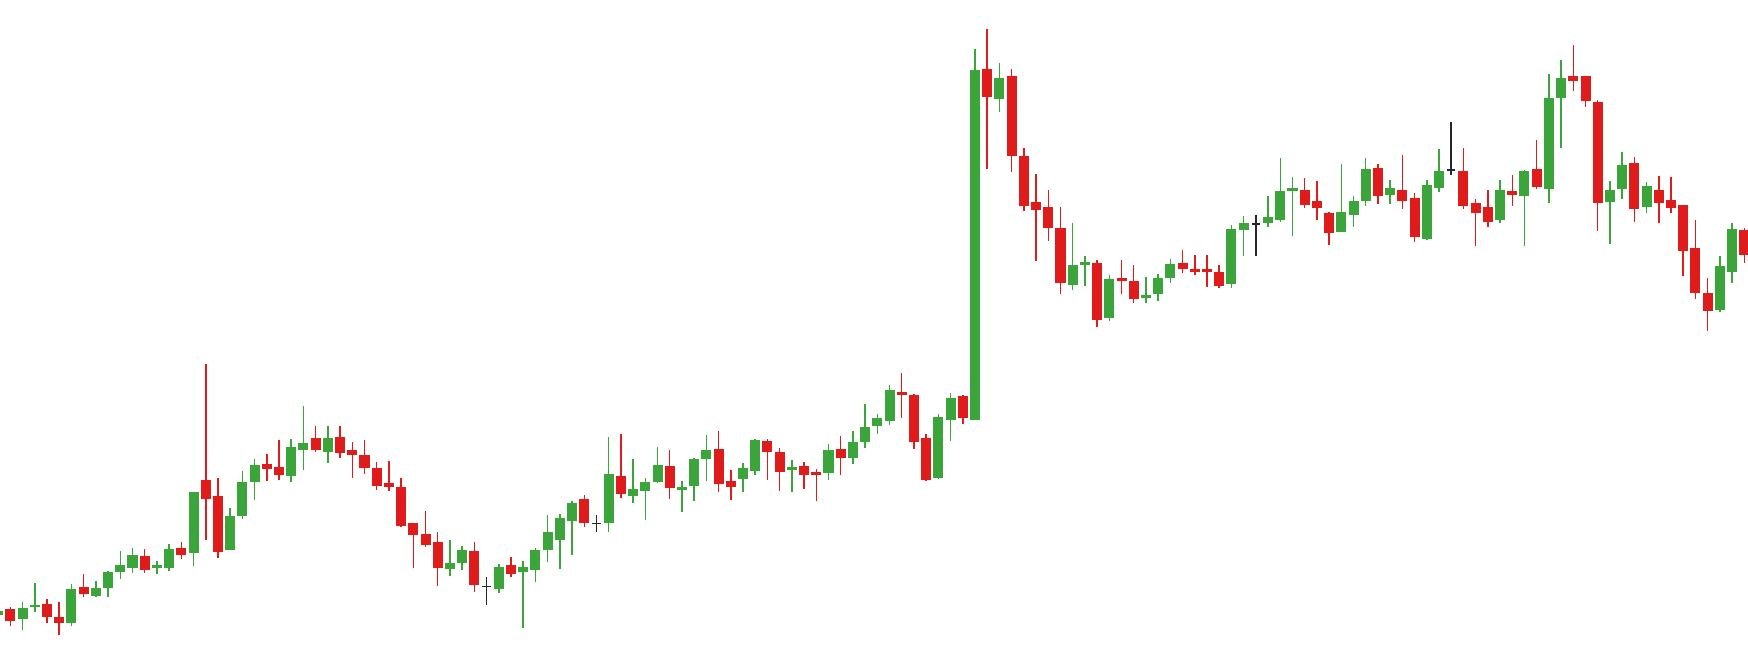buy: (822, 415, 945, 483)
sell: (1448, 48, 1606, 175)
